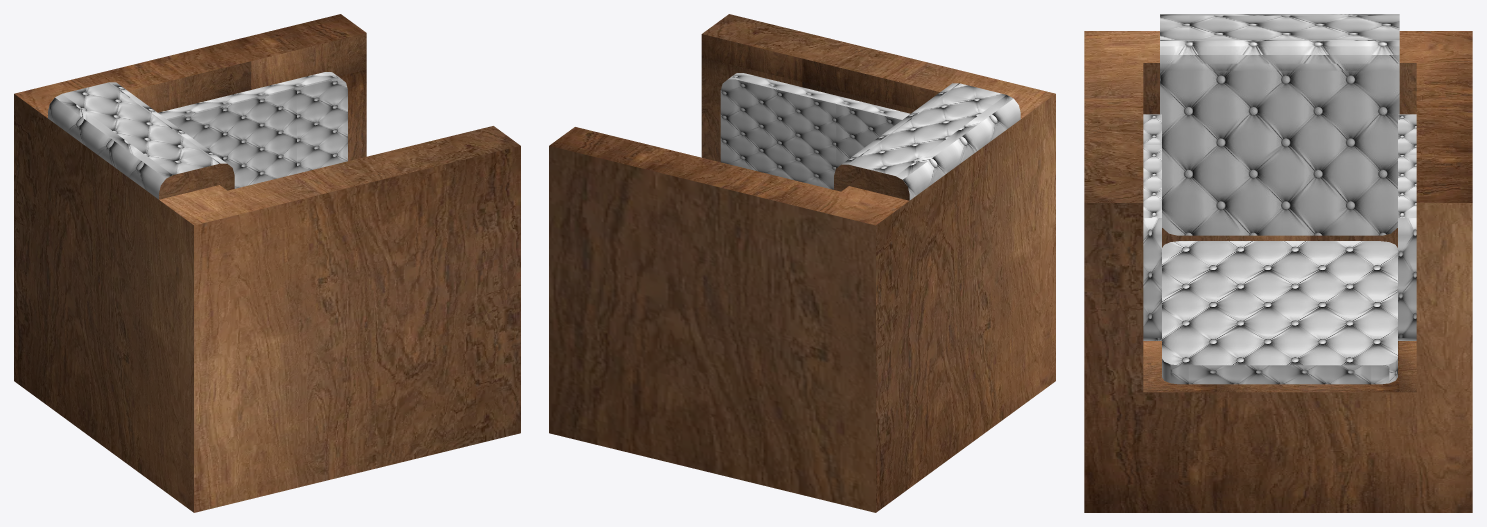
Rendered from Couch.fbx.
3 views of the same model, side by side, from view 1: azimuth 30°, elevation 25°; view 2: azimuth 150°, elevation 25°; view 3: azimuth 270°, elevation 25° (orthographic). The views are drawn at different scales.
Parts seen in each view (by area): view 1: Cube; view 2: Cube; view 3: Cube.
Part boxes in pixels (bbox=[...]): Cube: bbox=[14, 14, 520, 512]; Cube: bbox=[549, 14, 1055, 512]; Cube: bbox=[1084, 14, 1472, 512].
Size of the model in its own units: 83.23 by 75.14 by 79.44.
2 materials, 2 textured.
